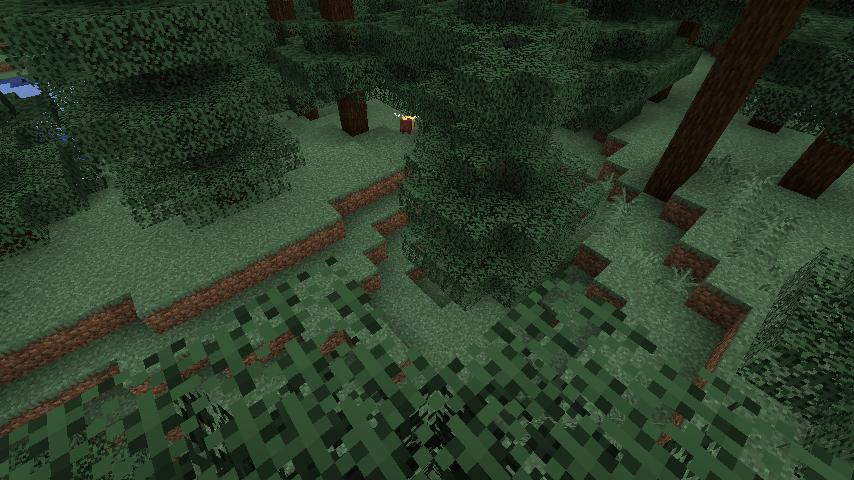bee: (393, 112, 422, 134)
